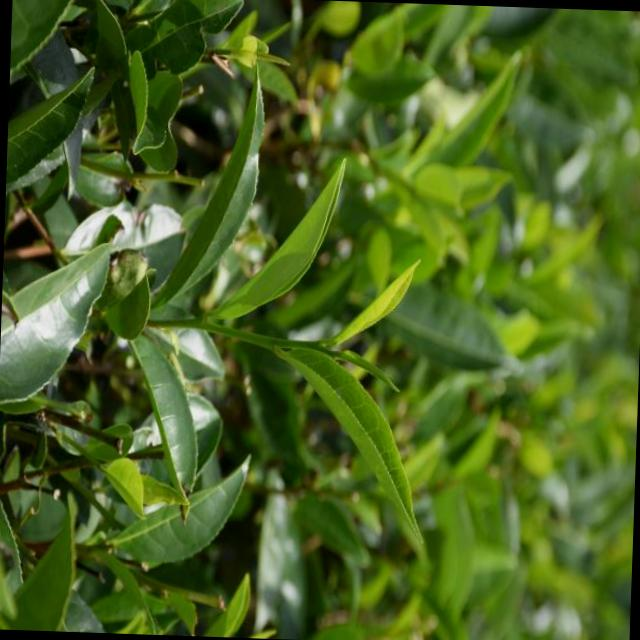Stem: (241, 331, 270, 347)
